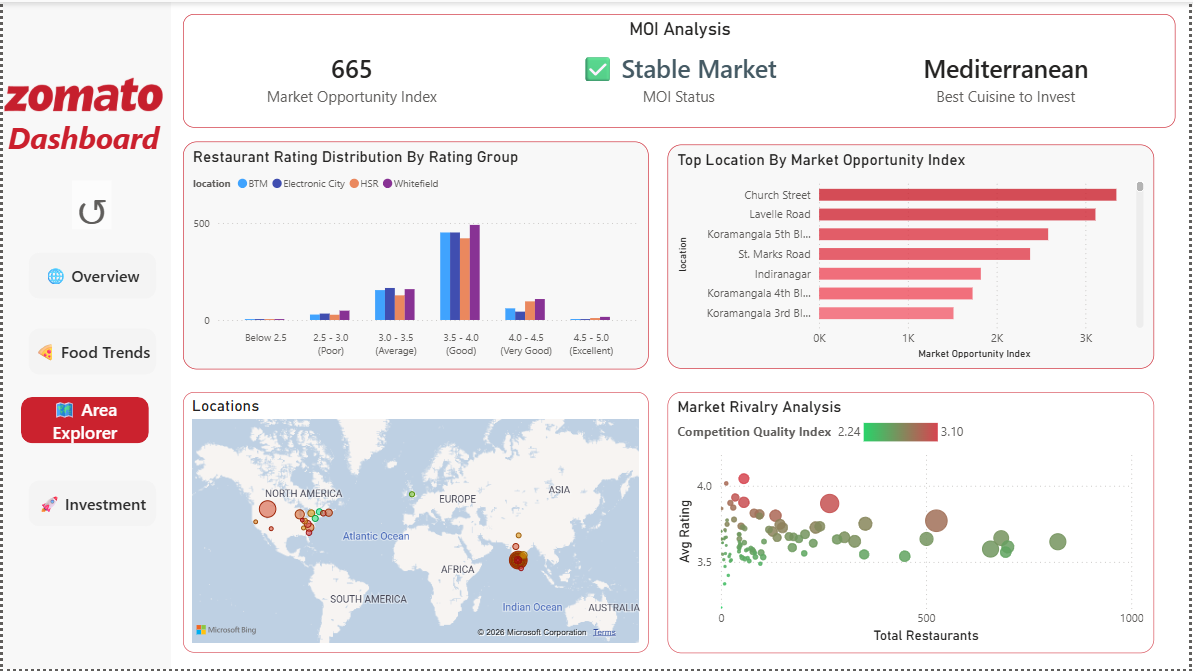

The dashboard page shown, as its layout file describes it:
{"tool":"powerbi","page":{"name":"🗺️ Area Explorer","canvas":[1280,720],"ordinal":2},"visuals":[{"type":"group","id":"g1","title":"sideBar","box":[0,0,314.9,720],"z":0},{"type":"shape","box":[0,0,181.4,720],"z":0,"group":"g1"},{"type":"image","box":[2,63,170.7,73.1],"z":1000,"group":"g1"},{"type":"pageNavigator","box":[18.9,262.7,155,315.6],"z":2000,"group":"g1"},{"type":"textbox","box":[0,117.8,314.9,75.2],"z":2500,"group":"g1"},{"type":"actionButton","box":[74.2,193,42.9,52.8],"z":3000,"group":"g1"},{"type":"map","title":"Locations","fields":{"Category":["zomato_cleaned.location"],"Size":["_Measures.Total Restaurants"]},"box":[194.6,421.4,502.7,281.6],"z":4000},{"type":"cardVisual","title":"MOI Analysis","fields":{"Data":["_Measures.Market Opportunity Index","_Measures.MOI Status","_Measures.Best Cuisine to Invest"]},"box":[194.6,13.2,1071.5,122.8],"z":5000},{"type":"clusteredColumnChart","title":"Restaurant Rating Distribution By Rating Group","fields":{"Category":["zomato_cleaned.Rating Bucket"],"Y":["Count(zomato_cleaned.name)"],"Series":["zomato_cleaned.location"]},"box":[194.6,151.2,502.7,245.7],"z":6000},{"type":"clusteredBarChart","title":"Top Location By Market Opportunity Index","fields":{"Y":["_Measures.Market Opportunity Index"],"Category":["zomato_cleaned.location"]},"box":[718.1,153.1,525.4,241.9],"z":7000},{"type":"scatterChart","title":"Market Rivalry Analysis","fields":{"X":["_Measures.Total Restaurants"],"Y":["_Measures.Avg Rating"],"Category":["zomato_cleaned.location"],"Size":["_Measures.Total Votes"]},"box":[718,421,525,282],"z":8000}]}

Visuals, with their boxes in screenshot pixels (x1, y1, x2, y2), scaled from the page's 1280x720 canvas onto the 1193x671 screenshot:
"sideBar" group: rect(0, 0, 293, 670)
shape: rect(0, 0, 169, 670)
image: rect(2, 59, 161, 127)
pageNavigator: rect(18, 245, 162, 539)
textbox: rect(0, 110, 293, 180)
actionButton: rect(69, 180, 109, 229)
"Locations" map: rect(181, 393, 650, 655)
"MOI Analysis" cardVisual: rect(181, 12, 1180, 127)
"Restaurant Rating Distribution By Rating Group" clusteredColumnChart: rect(181, 141, 650, 370)
"Top Location By Market Opportunity Index" clusteredBarChart: rect(669, 143, 1159, 368)
"Market Rivalry Analysis" scatterChart: rect(669, 392, 1159, 655)
